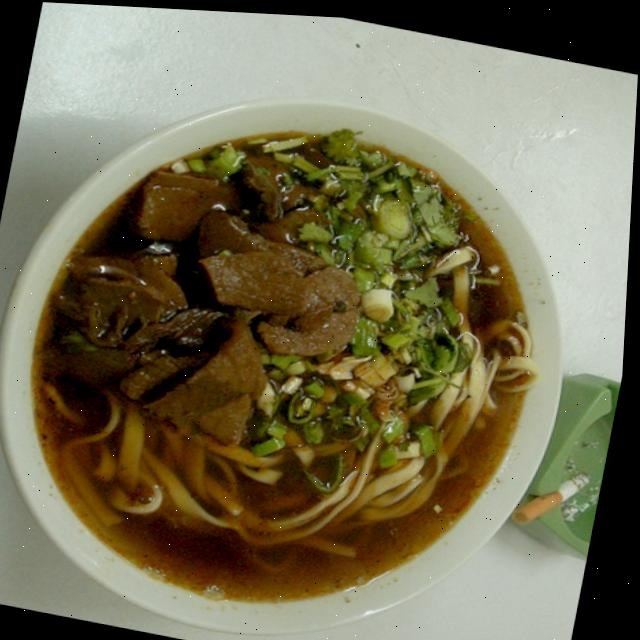面条主食: (0, 64, 585, 640)
